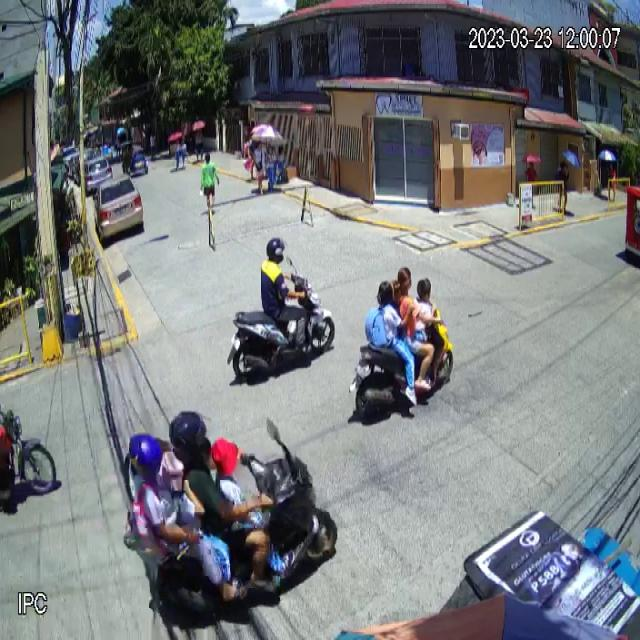Car: (93, 172, 144, 240)
Motorcycle: (228, 254, 336, 384)
